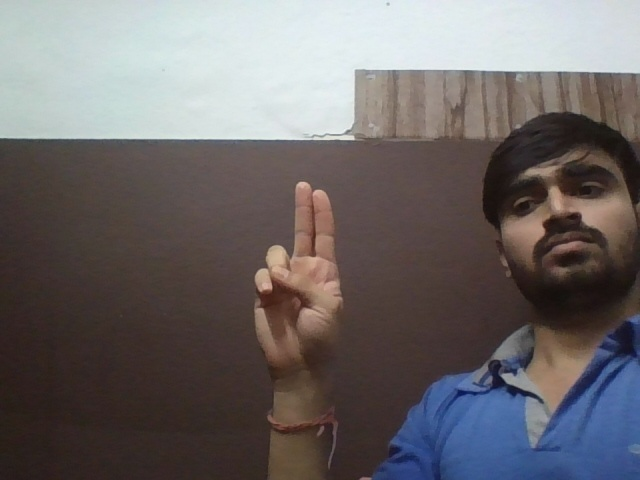U: (232, 166, 353, 386)
